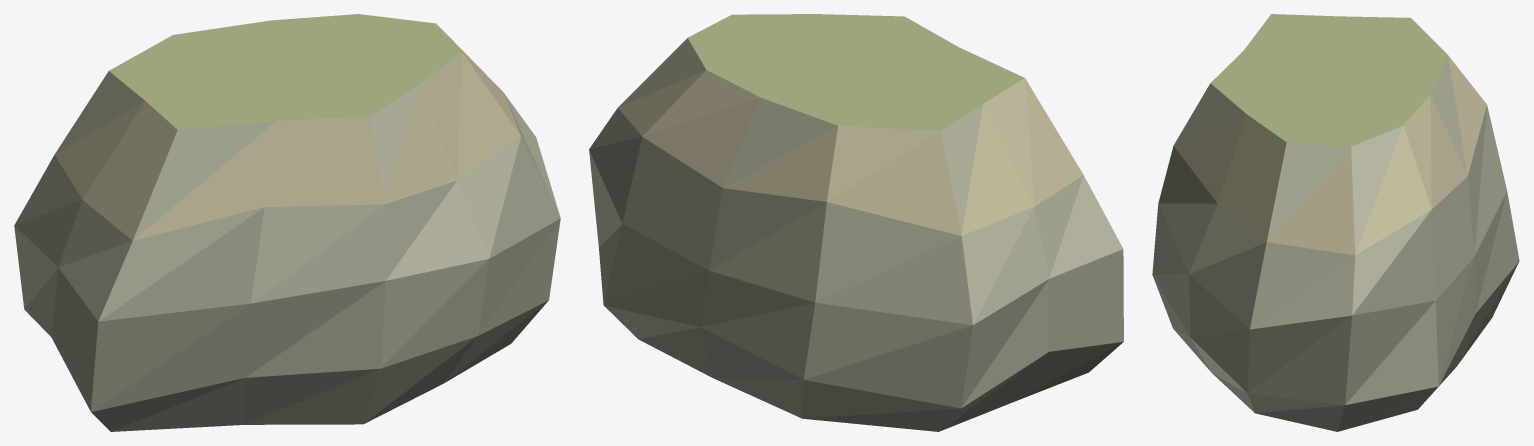
The model's file is rock_coastal_b.glb.
The picture shows the model from 3 angles, left to right: view 1: azimuth 30°, elevation 25°; view 2: azimuth 150°, elevation 25°; view 3: azimuth 270°, elevation 25°; orthographic projection. The views are drawn at different scales.
Parts seen in each view (by area): view 1: rock_coastal_b; view 2: rock_coastal_b; view 3: rock_coastal_b.
Boxes of the visible parts, box(x1,y1,x2,y2) form: rock_coastal_b: box(14, 14, 560, 431); rock_coastal_b: box(589, 14, 1123, 431); rock_coastal_b: box(1152, 14, 1519, 431).
Bounding box in the file's own units: 3 × 1.65 × 2.14.
